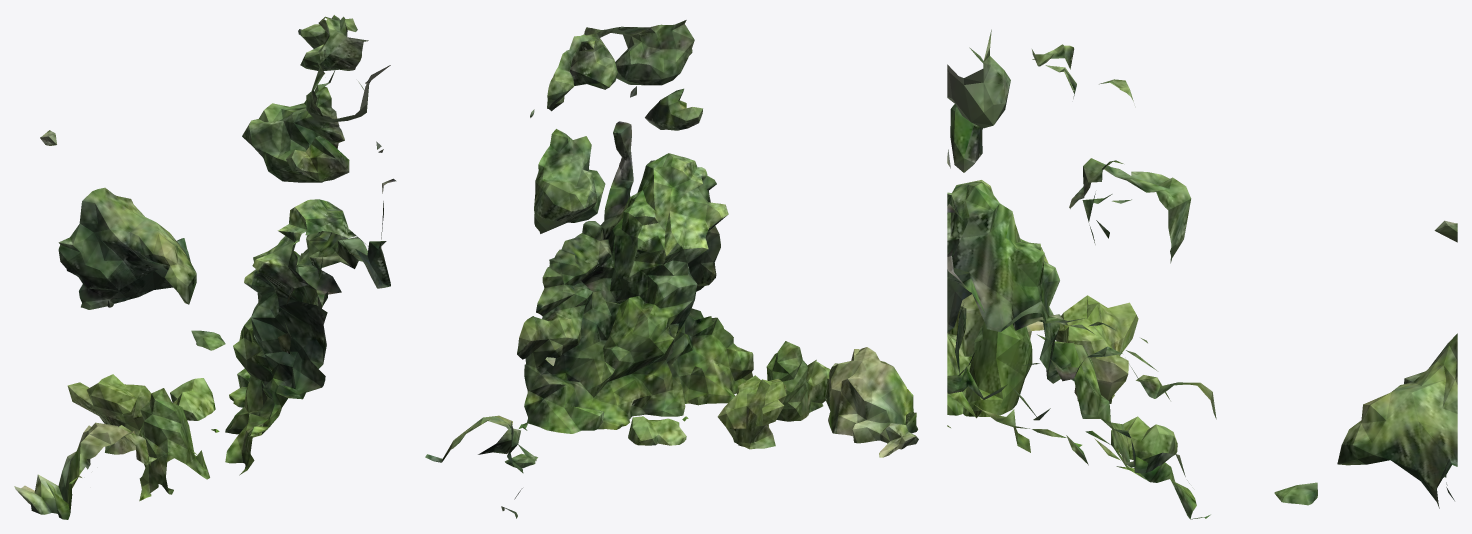
3 views of the same model, side by side, from view 1: azimuth 30°, elevation 25°; view 2: azimuth 150°, elevation 25°; view 3: azimuth 270°, elevation 25° (orthographic). The views are drawn at different scales.
Bounding box in the file's own units: 24.78 × 26.11 × 26.11.
3 materials, 3 textured.
